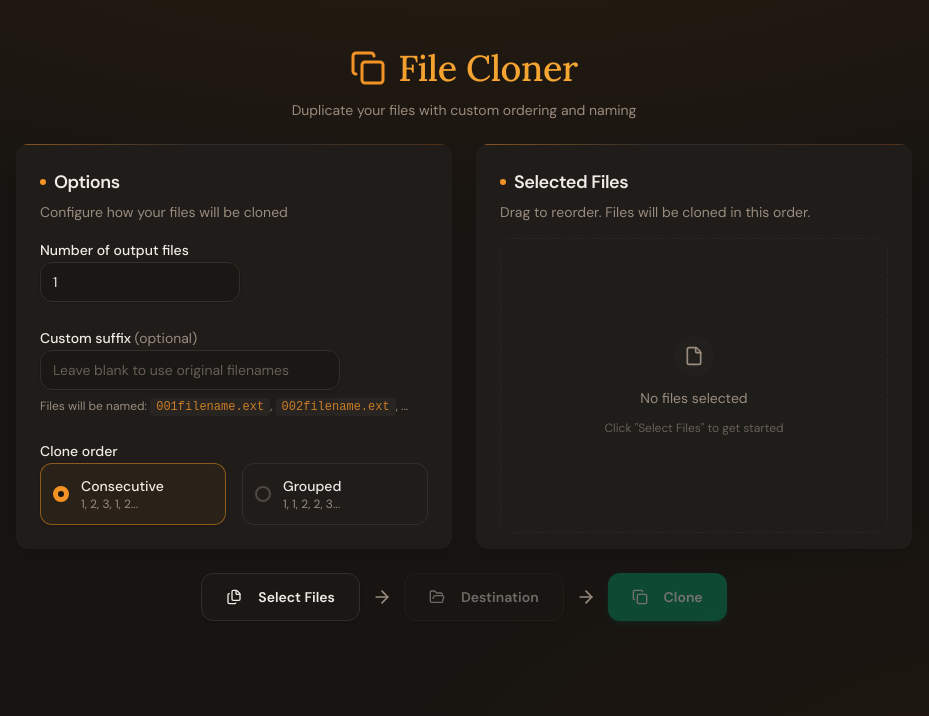
File Cloner App › File Selection › shows file count after selection
Click the button "Select Files" at (281, 597), box [201,573,360,621]
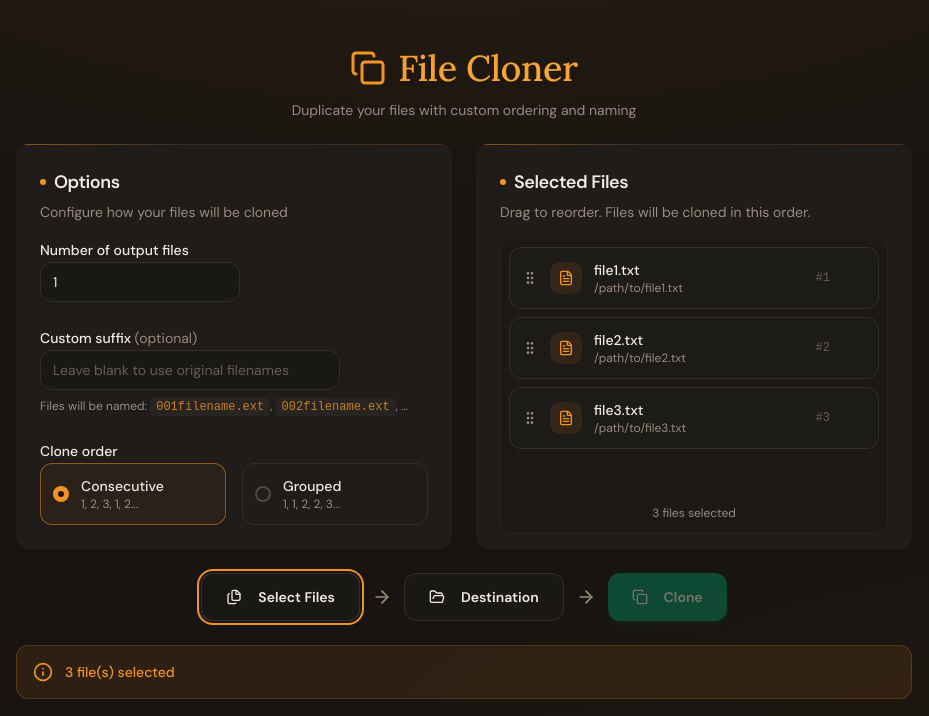
expect the text "3 files selected" is shown: met, box [652,505,736,521]
